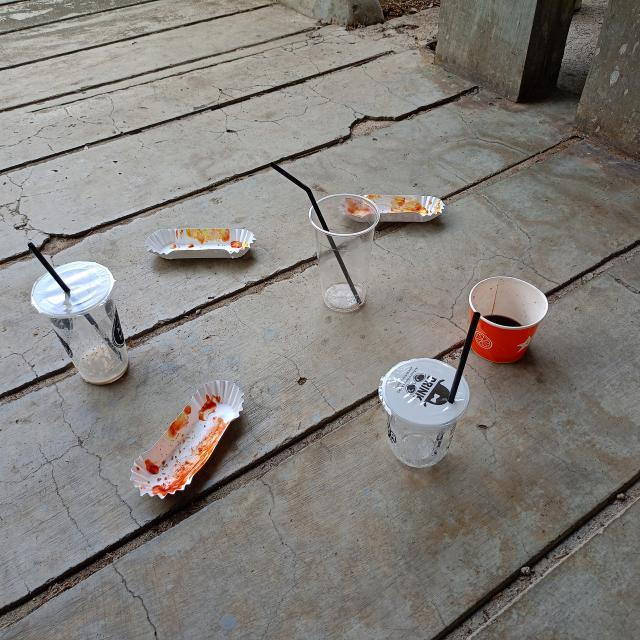recyclable waste: (123, 372, 255, 505), (23, 253, 140, 393), (374, 352, 476, 475), (302, 184, 386, 318), (456, 270, 556, 369), (134, 218, 262, 268), (331, 184, 451, 232)
